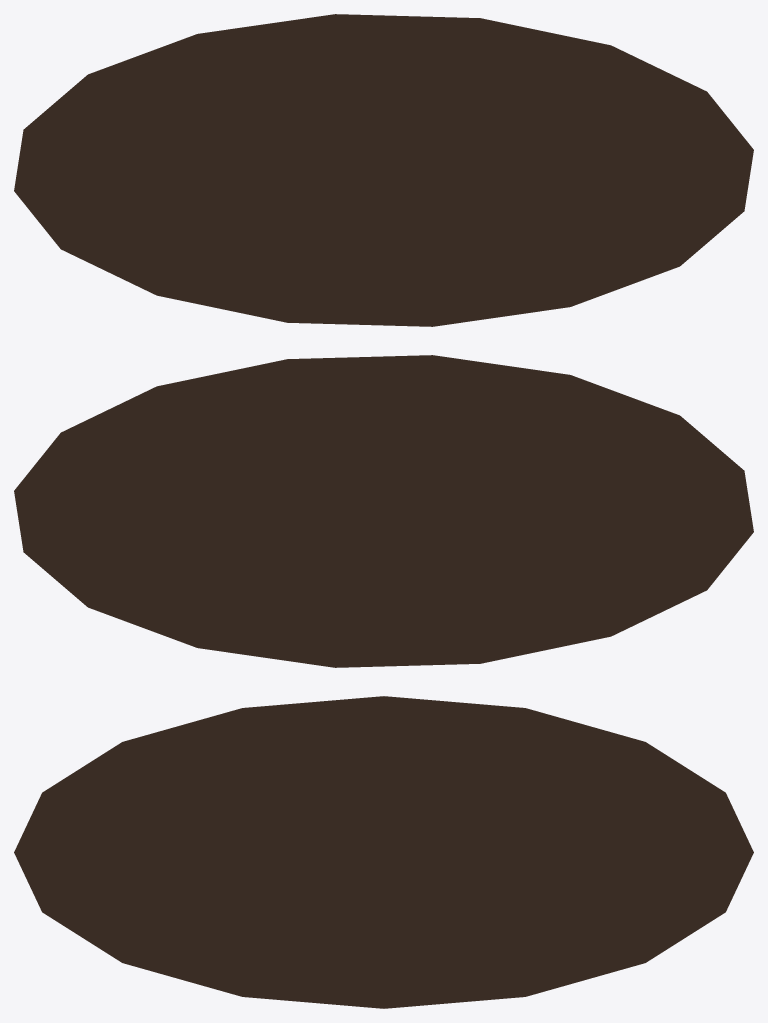
The model's file is waterplane_circle.glb.
The picture shows the model from 3 angles, top to bottom: view 1: azimuth 30°, elevation 25°; view 2: azimuth 150°, elevation 25°; view 3: azimuth 270°, elevation 25°; orthographic projection.
Visible parts, largest first — view 1: waterplane_circle; view 2: waterplane_circle; view 3: waterplane_circle.
Part boxes in pixels (<box>): waterplane_circle: <box>14,14,753,326</box>; waterplane_circle: <box>14,355,753,667</box>; waterplane_circle: <box>14,696,753,1008</box>.
Size of the model in its own units: 2 by 0 by 2.
Materials: 1 (1 with a texture image).
